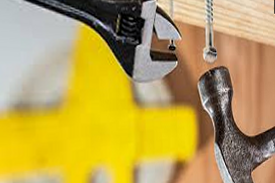Wrench: (25, 1, 188, 81)
